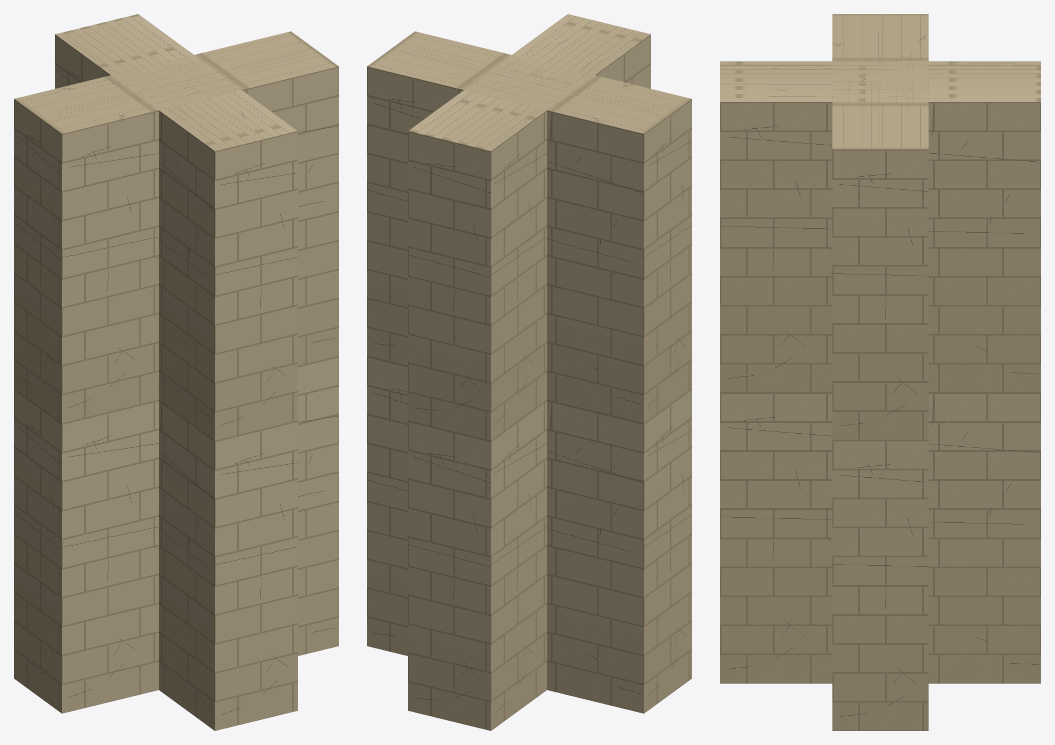
Rendered from junction_X.obj.
3 views of the same model, side by side, from view 1: azimuth 30°, elevation 25°; view 2: azimuth 150°, elevation 25°; view 3: azimuth 270°, elevation 25° (orthographic).
Visible parts, largest first — view 1: junction_X; view 2: junction_X; view 3: junction_X.
Part boxes in pixels (<box>): junction_X: <box>14,14,338,730</box>; junction_X: <box>367,14,691,730</box>; junction_X: <box>720,14,1040,730</box>.
Size of the model in its own units: 1 by 2 by 1.
Materials: 1 (1 with a texture image).
